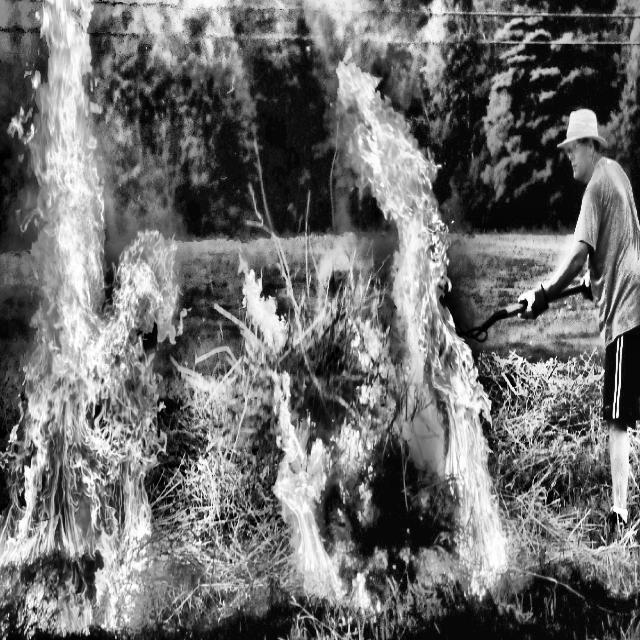fire: (6, 11, 492, 628)
